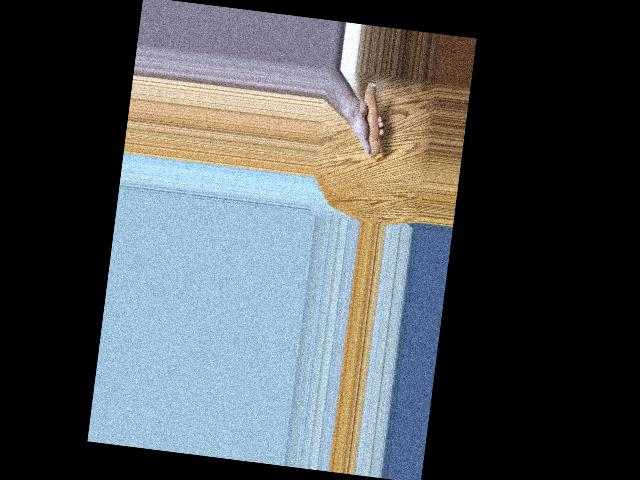sweet_potato: (354, 78, 389, 158)
